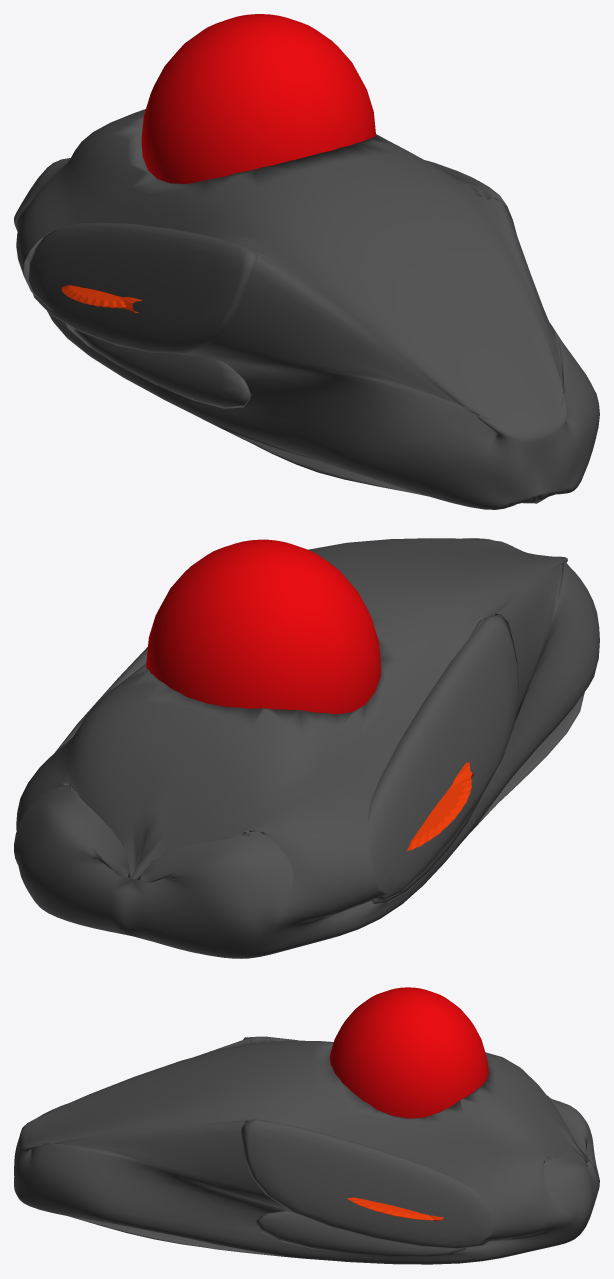
The model's file is TRACKBALL.fbx.
The picture shows the model from 3 angles, top to bottom: view 1: azimuth 30°, elevation 25°; view 2: azimuth 150°, elevation 25°; view 3: azimuth 270°, elevation 25°; orthographic projection. The views are drawn at different scales.
Parts seen in each view (by area): view 1: Cube.003, Sphere.001, Cube.004, Cylinder.001; view 2: Cube.003, Sphere.001, Cube.004, Cylinder.001; view 3: Cube.003, Cube.004, Sphere.001, Cylinder.001.
Part boxes in pixels (x1,y1,x2,y2): Cube.003: (14, 109, 599, 509); Sphere.001: (141, 14, 375, 183); Cube.004: (27, 160, 516, 407); Cylinder.001: (61, 285, 142, 312); Cube.003: (14, 538, 599, 958); Sphere.001: (146, 539, 380, 714); Cube.004: (54, 614, 518, 903); Cylinder.001: (407, 762, 474, 850); Cube.003: (14, 1037, 599, 1264); Cube.004: (241, 1036, 494, 1256); Sphere.001: (329, 987, 488, 1118); Cylinder.001: (347, 1197, 443, 1221).
Size of the model in its own units: 4.4 by 3.54 by 8.54.
